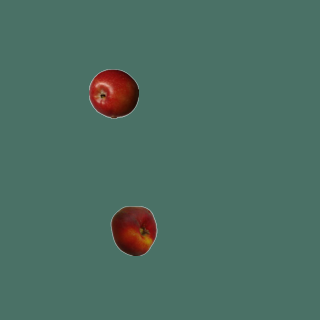Apple Braeburn: (88, 68, 138, 118)
Nectarine Flat: (108, 205, 158, 255)
